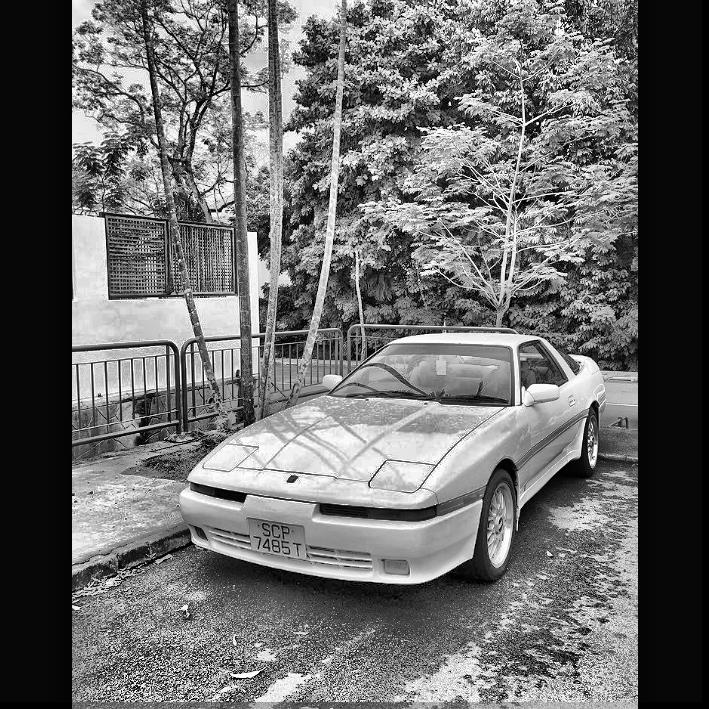License-Plates: (249, 519, 304, 559)
